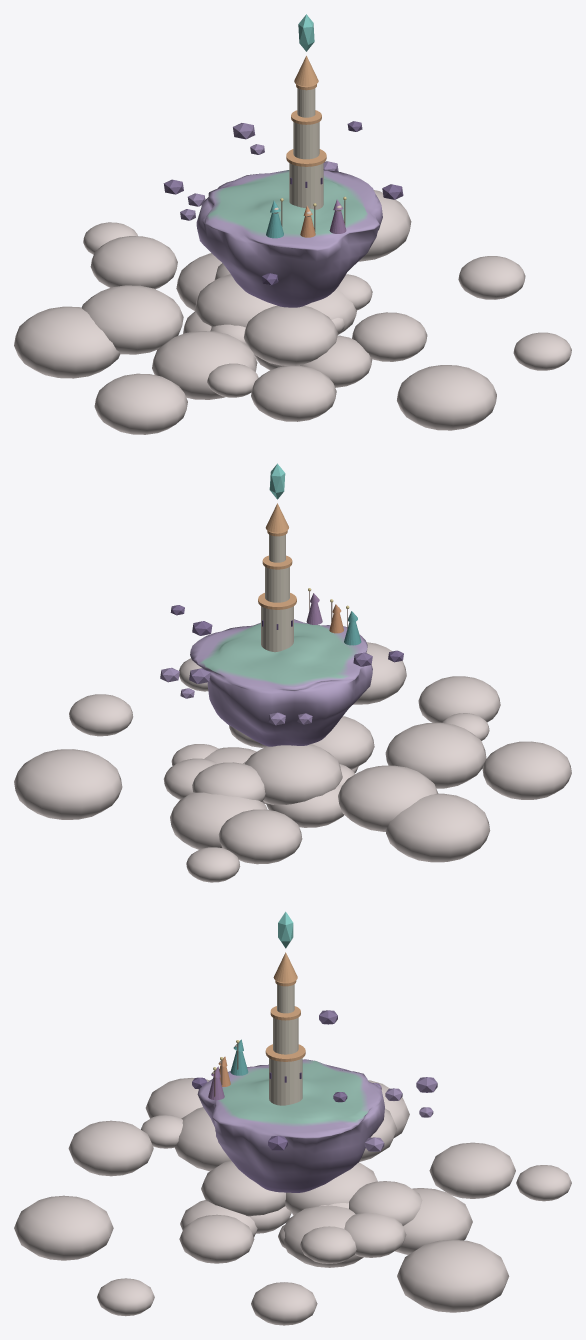
File: isle.glb
The picture shows the model from 3 angles, top to bottom: view 1: azimuth 30°, elevation 25°; view 2: azimuth 150°, elevation 25°; view 3: azimuth 270°, elevation 25°; orthographic projection. The views are drawn at different scales.
Visible parts, largest first — view 1: isle, Sphere.005, Sphere.018, Sphere.011, Sphere.016, Sphere.006, Sphere, Sphere.003, Sphere.004, Sphere.012, Sphere.022, Sphere.007 (+11 smaller); view 2: isle, Sphere.024, Sphere.005, Sphere, Sphere.022, Sphere.011, Sphere.016, Sphere.004, Sphere.010, Sphere.003, Sphere.007, Sphere.014 (+10 smaller); view 3: isle, Sphere.024, Sphere.018, Sphere.004, Sphere.003, Sphere.010, Sphere.012, Sphere.006, Sphere.007, Sphere.014, Sphere, Sphere.009 (+13 smaller).
Boxes of the visible parts, x1,y1,x2,y2 form: isle: (196, 170, 382, 307); Sphere.005: (14, 306, 120, 378); Sphere.018: (397, 365, 496, 430); Sphere.011: (81, 285, 183, 354); Sphere.016: (94, 373, 187, 434); Sphere.006: (244, 305, 337, 365); Sphere: (152, 331, 257, 399); Sphere.003: (251, 365, 336, 421); Sphere.004: (90, 236, 177, 289); Sphere.012: (352, 312, 427, 361); Sphere.022: (195, 274, 276, 327); Sphere.007: (458, 256, 525, 299); isle: (190, 619, 372, 746); Sphere.024: (14, 749, 122, 819); Sphere.005: (385, 793, 490, 862); Sphere: (385, 722, 486, 788); Sphere.022: (245, 744, 342, 804); Sphere.011: (338, 765, 438, 831); Sphere.016: (482, 741, 571, 799); Sphere.004: (218, 809, 302, 864); Sphere.010: (170, 792, 267, 849); Sphere.003: (418, 676, 500, 722); Sphere.007: (69, 694, 133, 736); Sphere.014: (192, 762, 265, 801); isle: (197, 1059, 384, 1192); Sphere.024: (397, 1239, 509, 1312); Sphere.018: (14, 1195, 113, 1260); Sphere.004: (429, 1142, 515, 1198); Sphere.003: (68, 1120, 153, 1176); Sphere.010: (395, 1188, 472, 1254); Sphere.012: (179, 1214, 254, 1263); Sphere.006: (201, 1160, 285, 1216); Sphere.007: (251, 1282, 317, 1325); Sphere.014: (349, 1181, 422, 1225); Sphere: (174, 1107, 230, 1171); Sphere.009: (283, 1205, 363, 1267).
Size of what is drawn, in the model's own units: 13.2 by 9.33 by 13.85.
